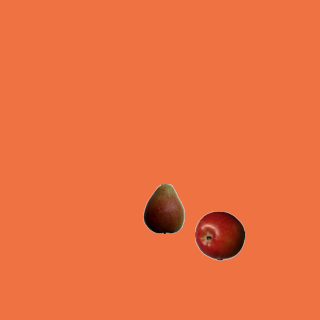Apple Braeburn: (194, 210, 244, 260)
Pear Forelle: (138, 183, 188, 233)
